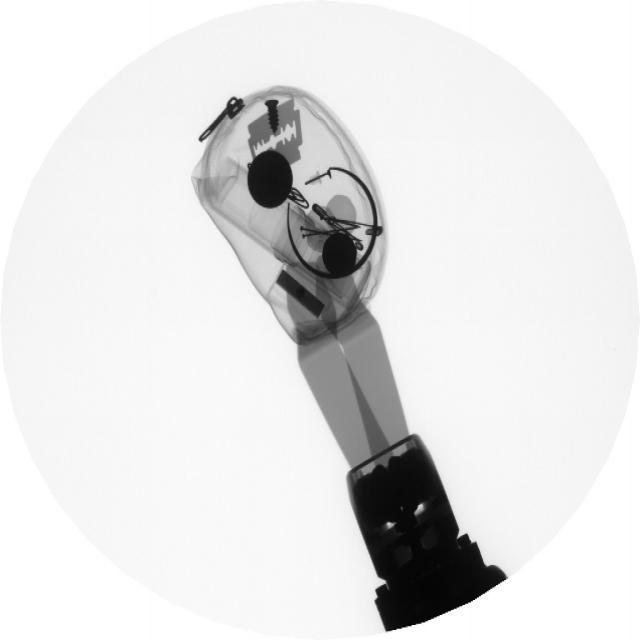BLADE: (245, 98, 308, 182)
